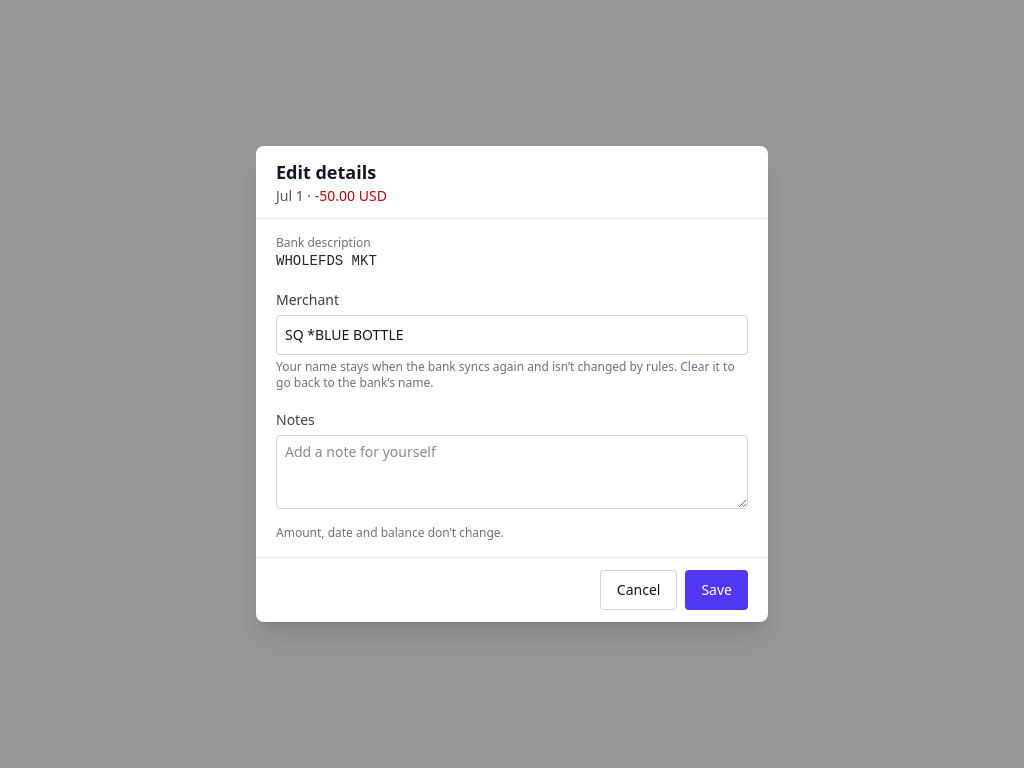
EditDetailsModal (#569) › keeps the dialog open with the server error when saving fails
In the text box labelled "Notes": (512, 472) [276,435,748,509], type "x"
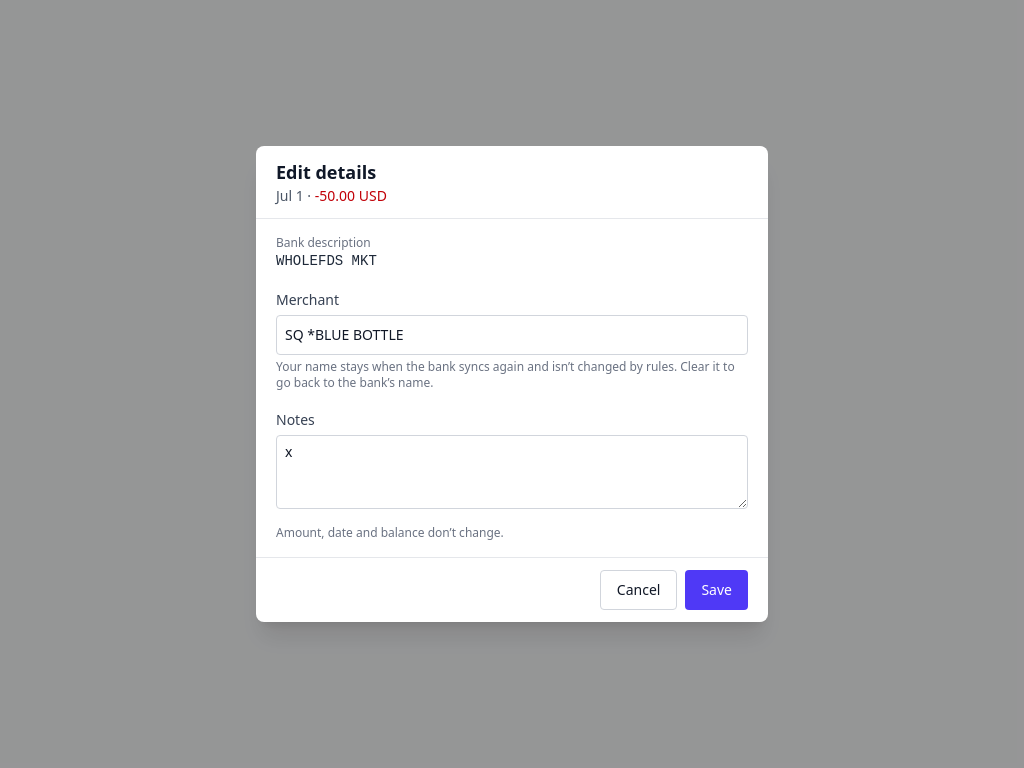
Click the button "Save": (717, 590) [685,570,748,610]
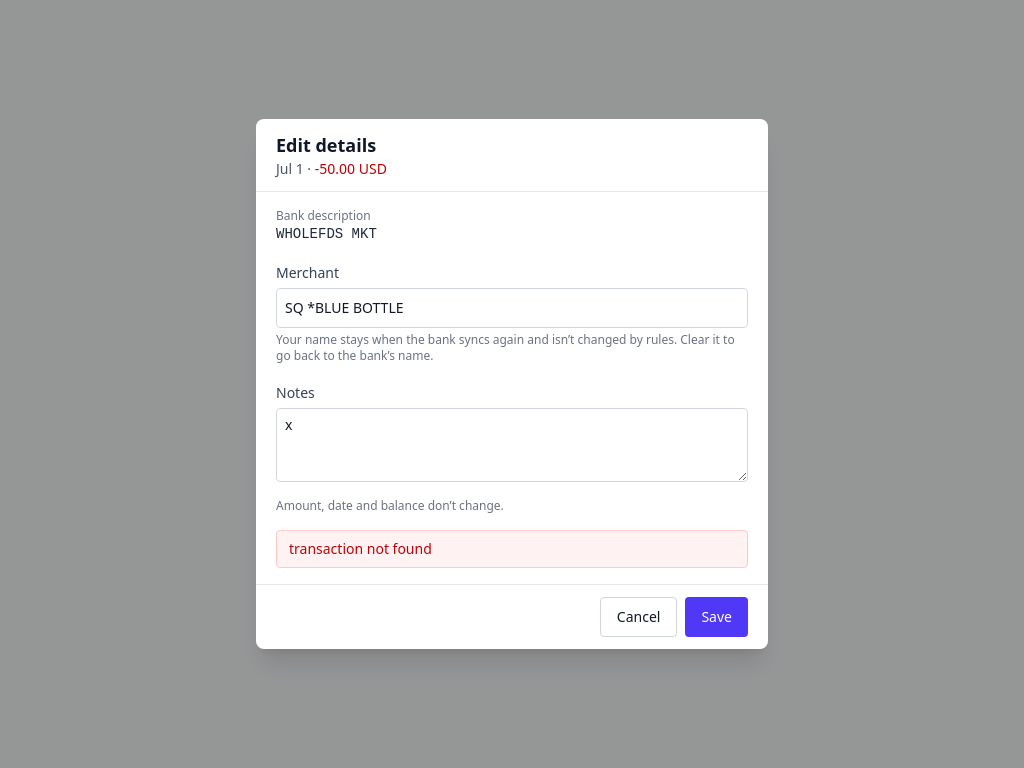
Now the message reads "transaction not found", box [289,539,432,558]
